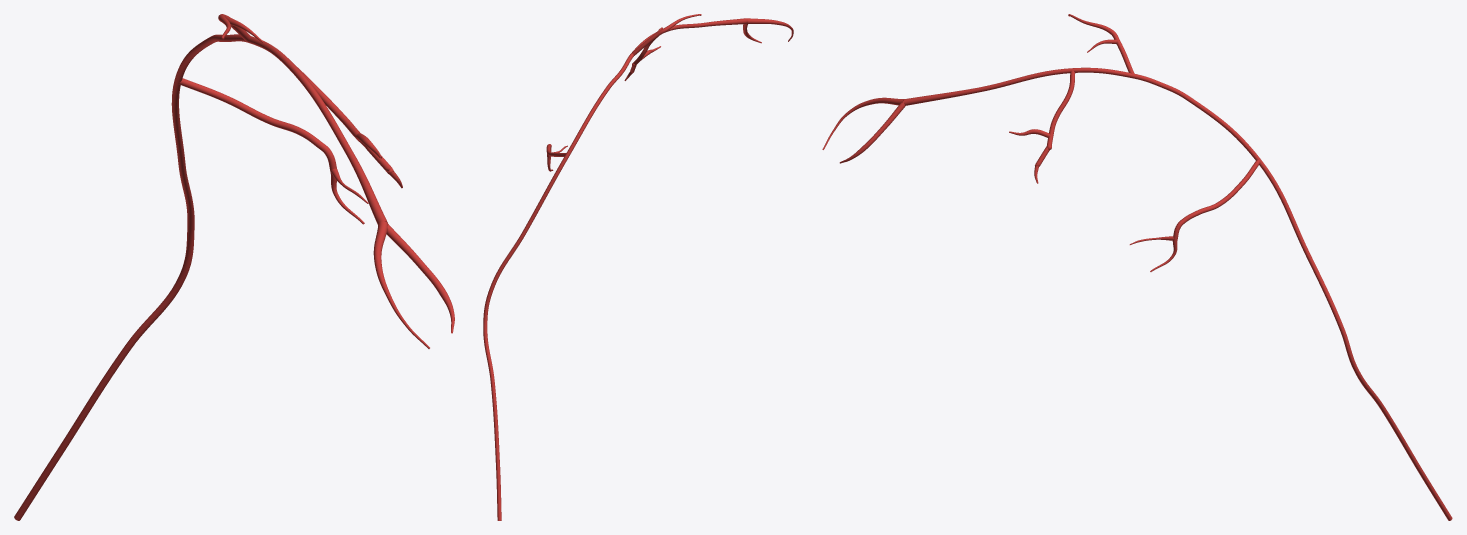
3 views of the same model, side by side, from view 1: azimuth 30°, elevation 25°; view 2: azimuth 150°, elevation 25°; view 3: azimuth 270°, elevation 25° (orthographic). The views are drawn at different scales.
Visible parts, largest first — view 1: 左侧枕动脉; view 2: 左侧枕动脉; view 3: 左侧枕动脉.
Part boxes in pixels (x1=…): 左侧枕动脉: x1=14, y1=14, x2=454, y2=520; 左侧枕动脉: x1=483, y1=14, x2=793, y2=520; 左侧枕动脉: x1=822, y1=14, x2=1452, y2=520.
Bounding box in the file's own units: 0.0474 × 0.1576 × 0.1869.
